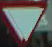Give way: (1, 0, 46, 42)
